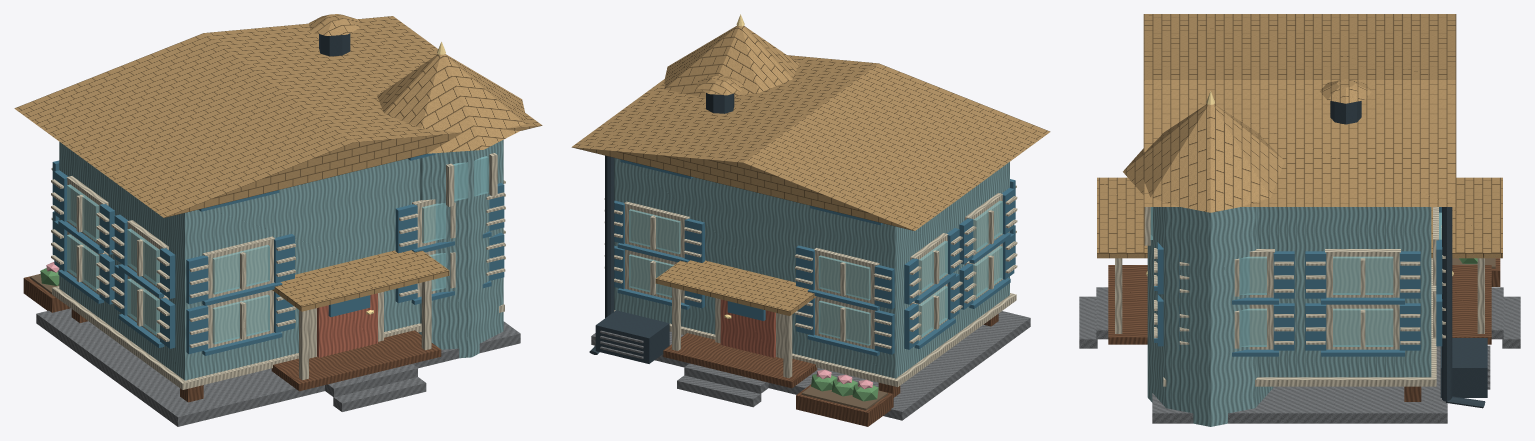
The model's file is house_beach_lv4_tower.glb.
3 views of the same model, side by side, from view 1: azimuth 30°, elevation 25°; view 2: azimuth 150°, elevation 25°; view 3: azimuth 270°, elevation 25° (orthographic). The views are drawn at different scales.
Visible parts, largest first — view 1: gable_roof, walls, tower, foundation, tower_roof, front_porch_canopy, front_deck, floor_trim, front_window_frame.002, front_door, front_window_frame, front_window_glass (+36 smaller); view 2: gable_roof, walls, tower_roof, foundation, back_porch_canopy, back_deck, back_ac_unit, floor_trim, back_window_frame.003, back_window_frame.002, back_door, back_window_frame (+34 smaller); view 3: gable_roof, tower, walls, tower_roof, foundation, back_porch_canopy, front_porch_canopy, right_window_frame.003, right_window_frame.001, front_deck, back_deck, back_ac_unit (+24 smaller).
Boxes of the visible parts, box(x1,y1,x2,y2) form: gable_roof: box(14, 16, 542, 217); walls: box(59, 142, 419, 380); tower: box(418, 140, 503, 358); foundation: box(36, 308, 520, 426); tower_roof: box(377, 54, 525, 153); front_porch_canopy: box(272, 250, 449, 311); front_deck: box(271, 330, 441, 391); floor_trim: box(52, 286, 504, 389); front_window_frame.002: box(202, 236, 275, 298); front_door: box(317, 293, 377, 357); front_window_frame: box(202, 290, 274, 348); front_window_glass: box(212, 295, 269, 344); gable_roof: box(571, 55, 1050, 230); walls: box(614, 158, 1009, 378); tower_roof: box(664, 25, 799, 97); foundation: box(591, 311, 1030, 420); back_porch_canopy: box(655, 260, 816, 315); back_deck: box(663, 333, 817, 388); back_ac_unit: box(595, 310, 669, 363); floor_trim: box(614, 293, 1016, 387); back_window_frame.003: box(624, 201, 689, 257); back_window_frame.002: box(814, 248, 879, 304); back_door: box(720, 299, 775, 357); back_window_frame: box(815, 296, 879, 349); gable_roof: box(1143, 14, 1456, 206); tower: box(1147, 207, 1273, 426); walls: box(1257, 207, 1431, 377); tower_roof: box(1123, 104, 1284, 212); foundation: box(1152, 346, 1447, 423); back_porch_canopy: box(1431, 177, 1502, 258); front_porch_canopy: box(1097, 177, 1147, 258); right_window_frame.003: box(1325, 249, 1400, 297); right_window_frame.001: box(1326, 304, 1399, 349); front_deck: box(1108, 265, 1147, 344); back_deck: box(1452, 265, 1491, 344); back_ac_unit: box(1440, 338, 1487, 397).
Bounding box in the file's own units: 6.6 × 4.75 × 6.19.
13 materials, 7 textured.
